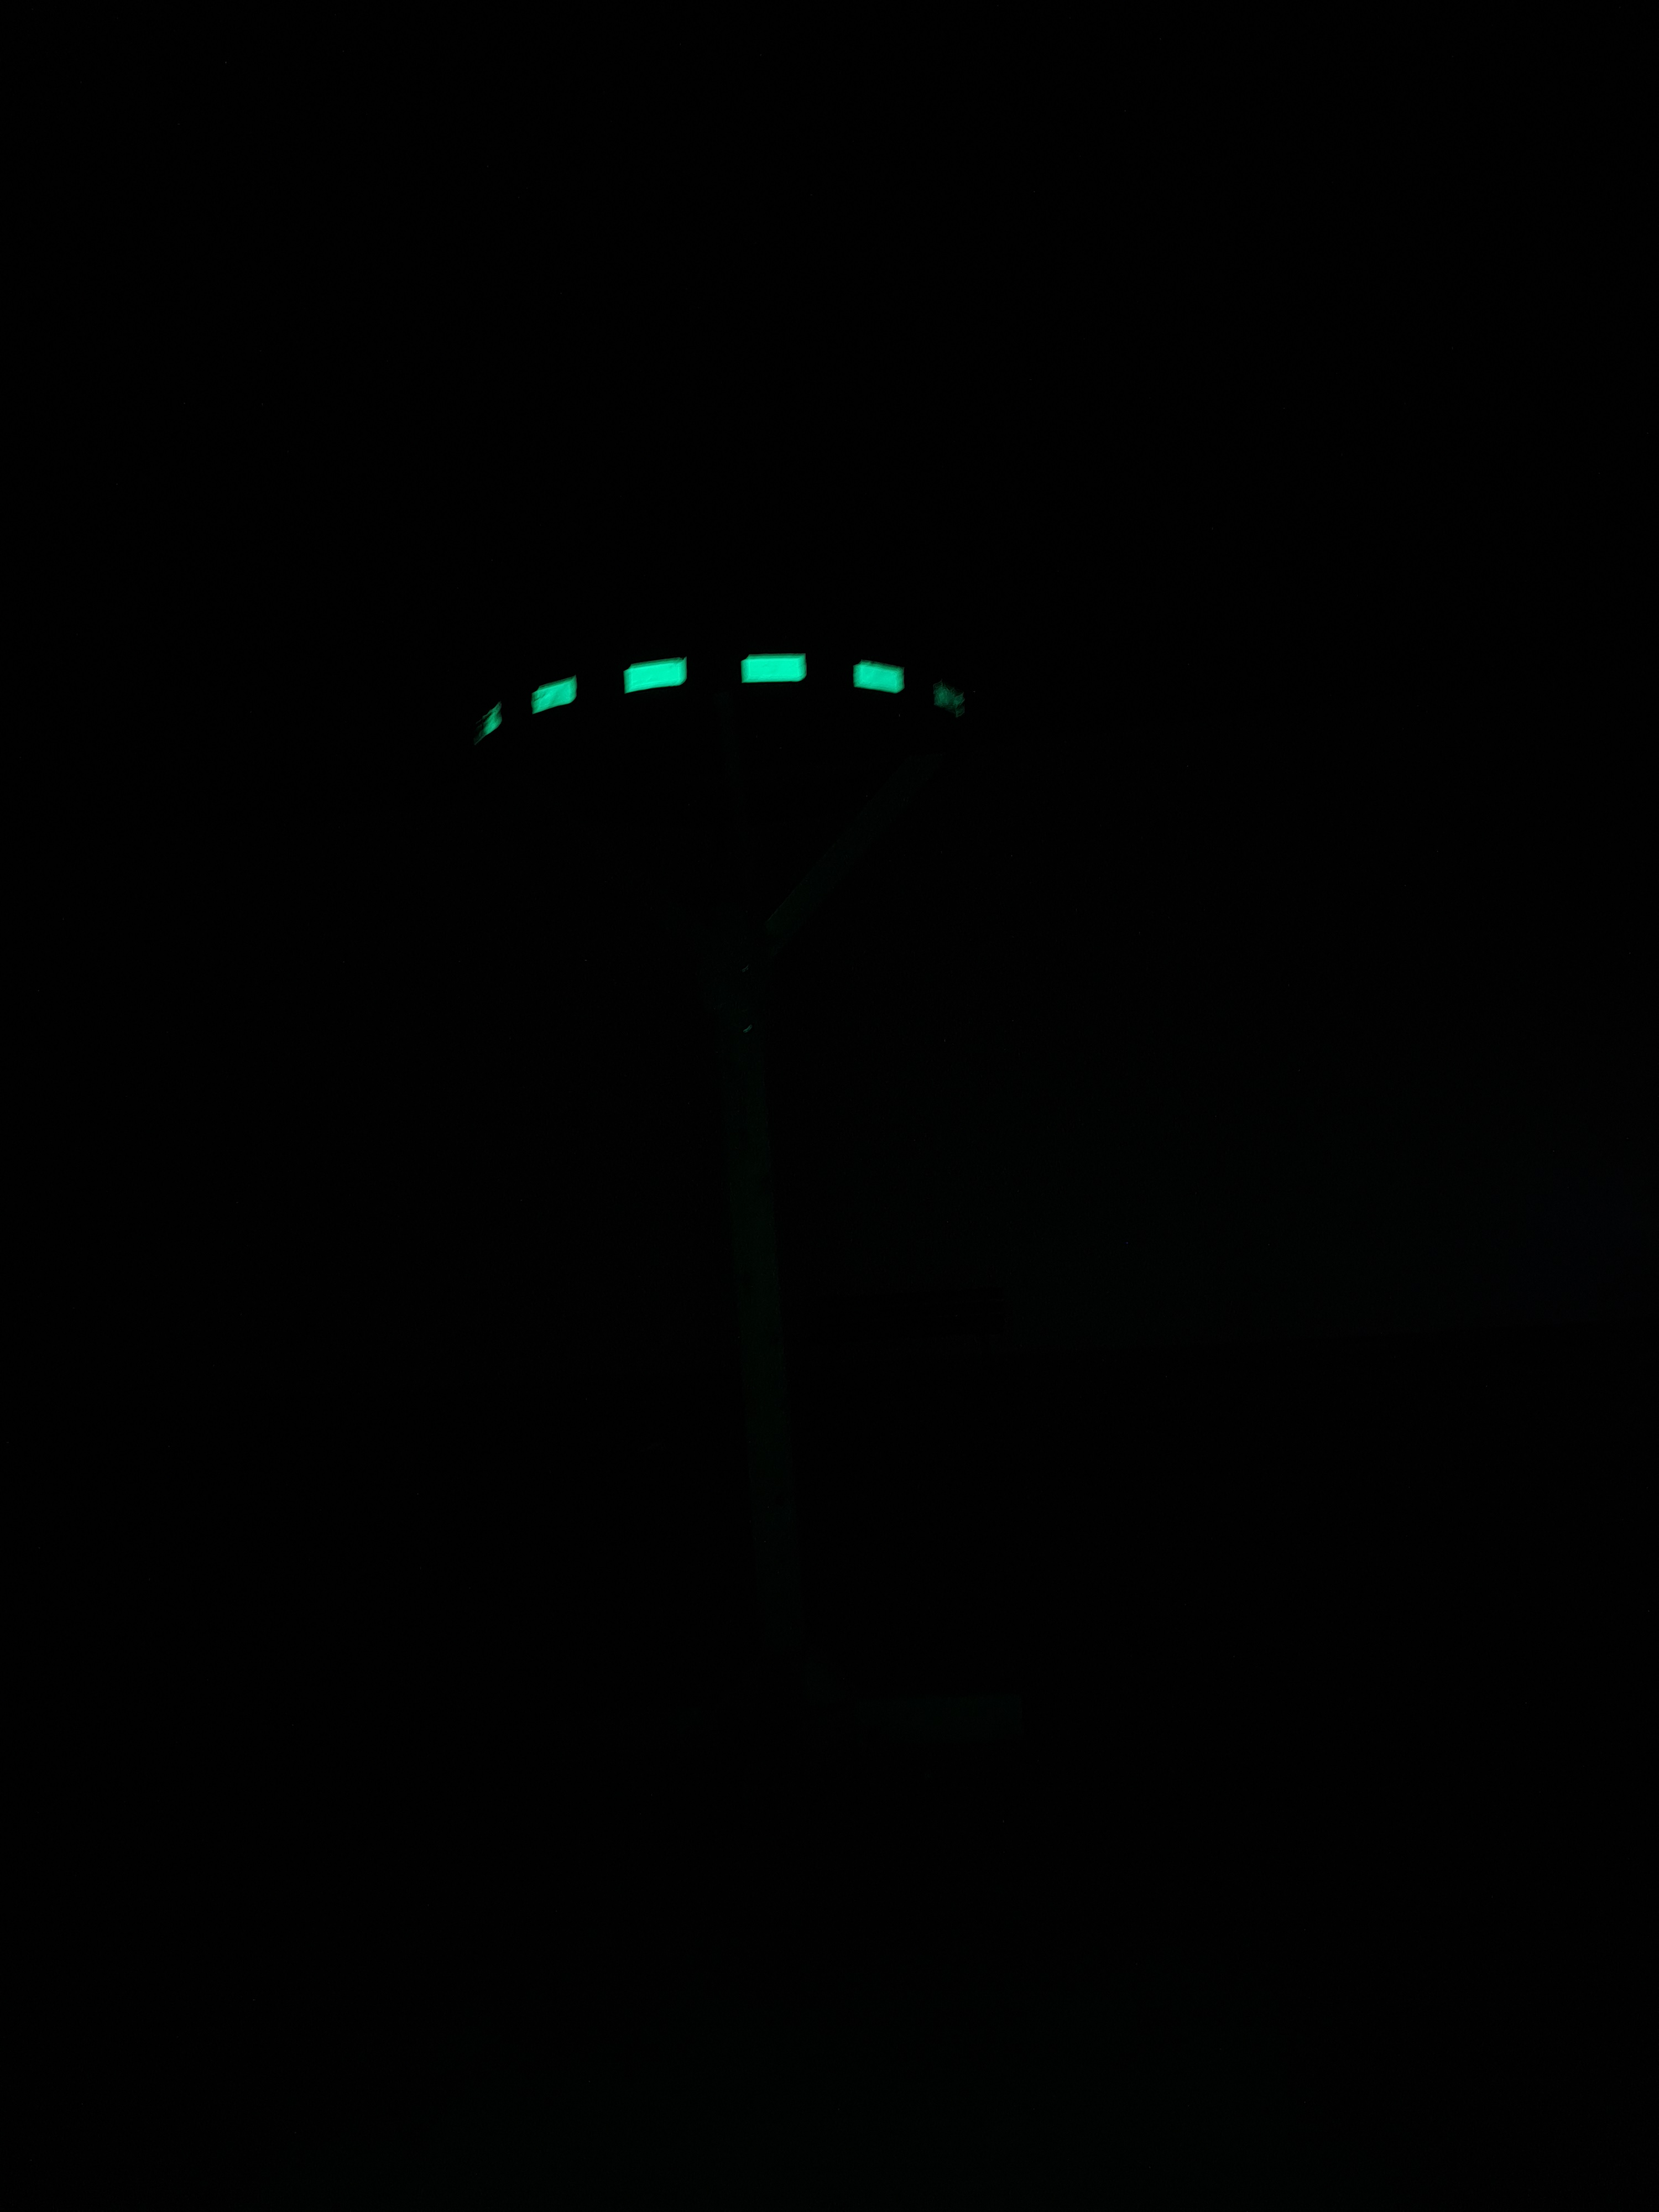hoop: (458, 639, 971, 752)
